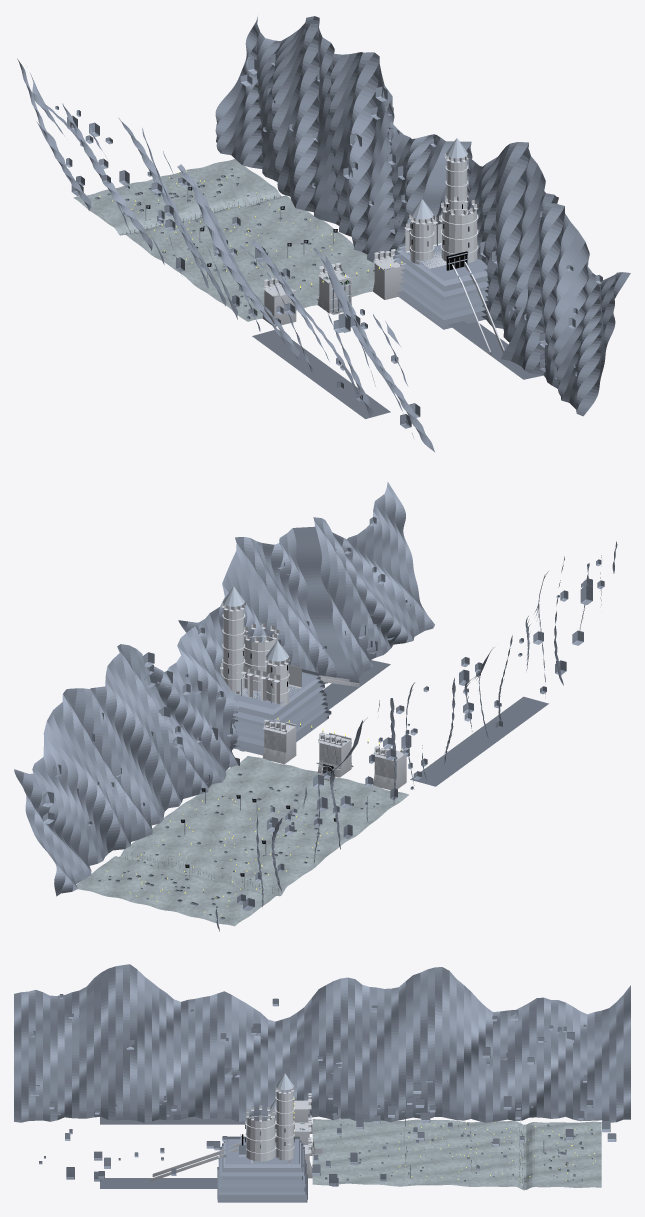
The model's file is muralla_helm.glb.
The picture shows the model from 3 angles, top to bottom: view 1: azimuth 30°, elevation 25°; view 2: azimuth 150°, elevation 25°; view 3: azimuth 270°, elevation 25°; orthographic projection. The views are drawn at different scales.
Visible parts, largest first — view 1: acantilado_der, campo_fuera, acantilado_izq, cuernavilla, suelo_lateral_roca, tramo_extremo_der, tramo_extremo_izq; view 2: acantilado_der, campo_fuera, cuernavilla, acantilado_izq, suelo_lateral_roca, tramo_extremo_der, tramo_extremo_izq, tramo_entero; view 3: acantilado_izq, campo_fuera, cuernavilla, acantilado_der, suelo_lateral_roca, tramo_extremo_izq.
Part boxes in pixels (box(x1,y1,x2,y2)): acantilado_der: box(215, 16, 630, 416); campo_fuera: box(73, 159, 374, 321); acantilado_izq: box(17, 58, 434, 451); cuernavilla: box(393, 138, 504, 355); suelo_lateral_roca: box(252, 321, 543, 418); tramo_extremo_der: box(373, 249, 405, 299); tramo_extremo_izq: box(262, 277, 296, 326); acantilado_der: box(14, 482, 434, 896); campo_fuera: box(76, 756, 408, 926); cuernavilla: box(220, 586, 359, 755); acantilado_izq: box(215, 541, 617, 931); suelo_lateral_roca: box(323, 660, 548, 786); tramo_extremo_der: box(262, 719, 296, 764); tramo_extremo_izq: box(373, 746, 406, 790); tramo_entero: box(318, 733, 351, 777); acantilado_izq: box(14, 964, 630, 1122); campo_fuera: box(312, 1113, 601, 1190); cuernavilla: box(150, 1073, 307, 1202); acantilado_der: box(39, 1083, 616, 1186); suelo_lateral_roca: box(100, 1116, 258, 1188); tramo_extremo_izq: box(293, 1093, 312, 1133).
Bounding box in the file's own units: 72.2 × 43.68 × 168.
11 materials, 4 textured.
